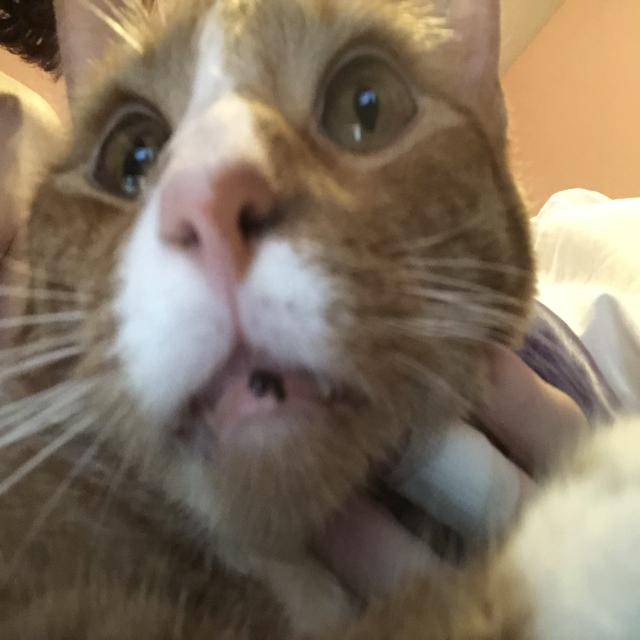cat-lump-and-bump: (242, 364, 292, 408)
